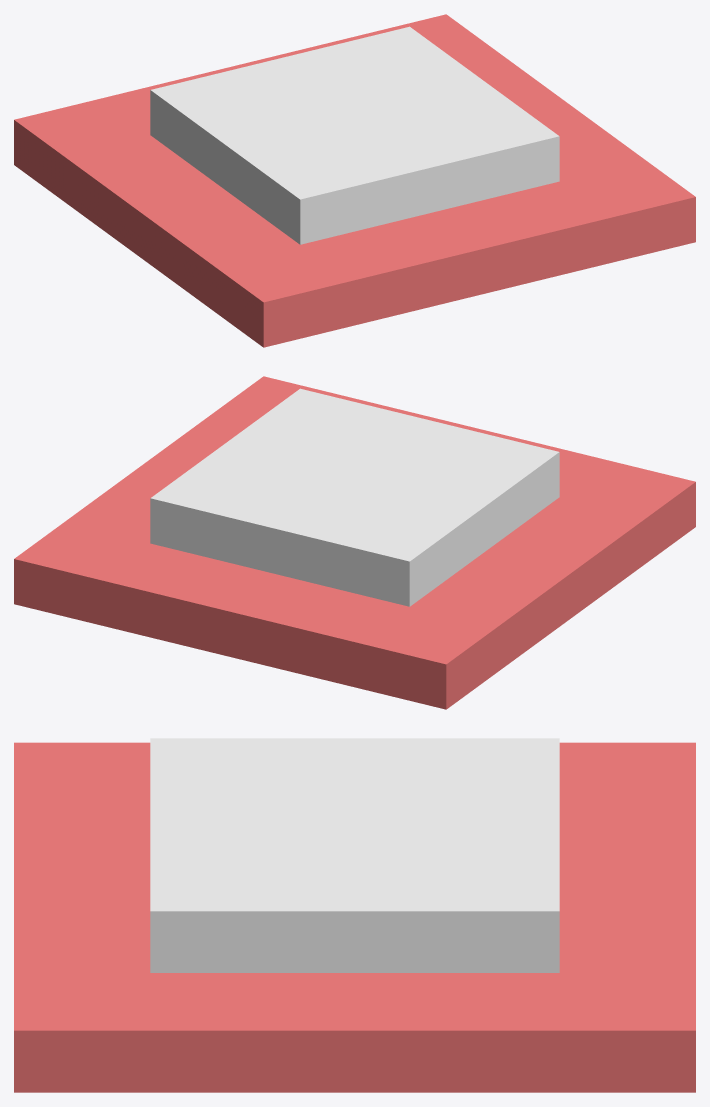
Rendered from start-up-zone-parking-line.obj.
The picture shows the model from 3 angles, top to bottom: view 1: azimuth 30°, elevation 25°; view 2: azimuth 150°, elevation 25°; view 3: azimuth 270°, elevation 25°; orthographic projection. The views are drawn at different scales.
Bounding box in the file's own units: 1 × 0.2 × 1.
1 material, 1 textured.
